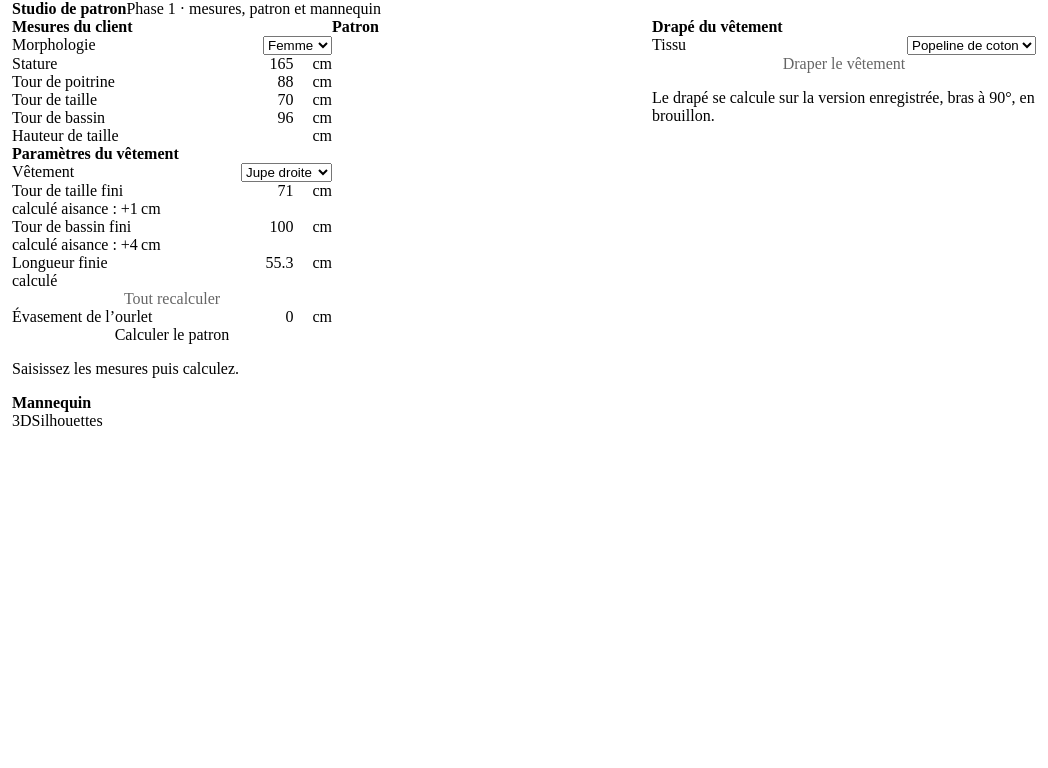
it: reprise d’une version dans le studio › sans modification : pas de question, formulaire rechargé, patron effacé
What coordinates should you click on to do the following:
click the button "Calculer le patron"
I would click on:
 (172, 335)
Its box is [12,326,332,344].
(page scrolled)
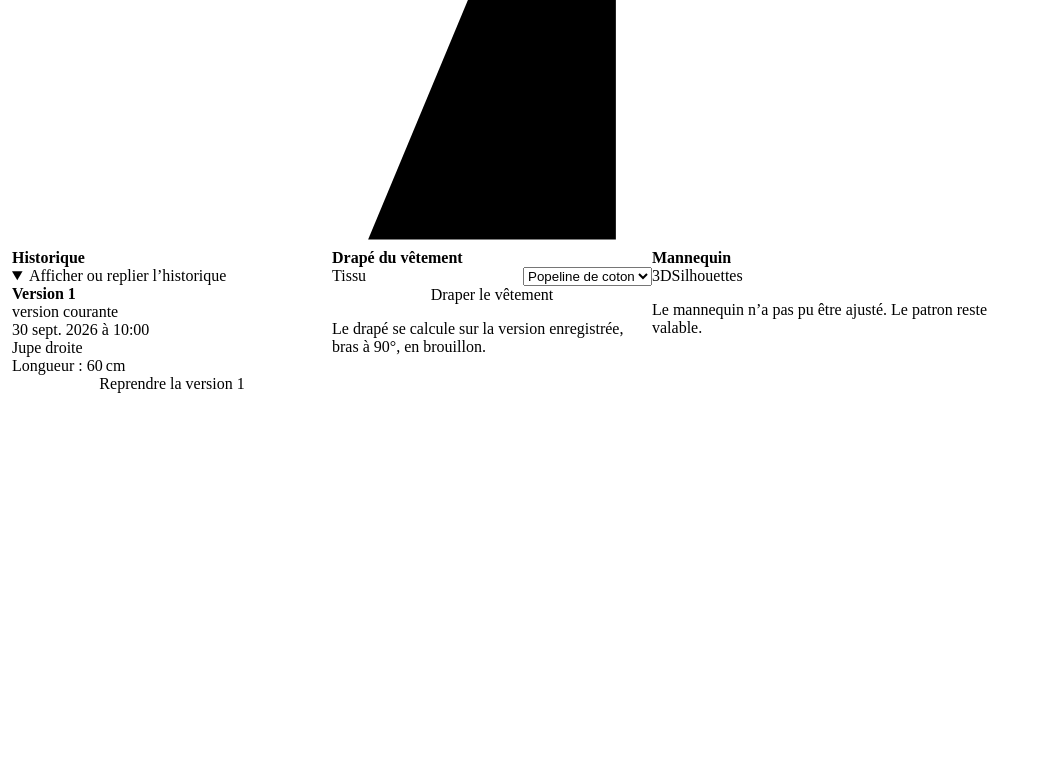
Expected: the button "Reprendre la version 1" is shown
What coordinates should you click on to do the following:
click the button "Reprendre la version 1"
I would click on:
 (172, 384)
Its box is [12,375,332,393].
(page scrolled)
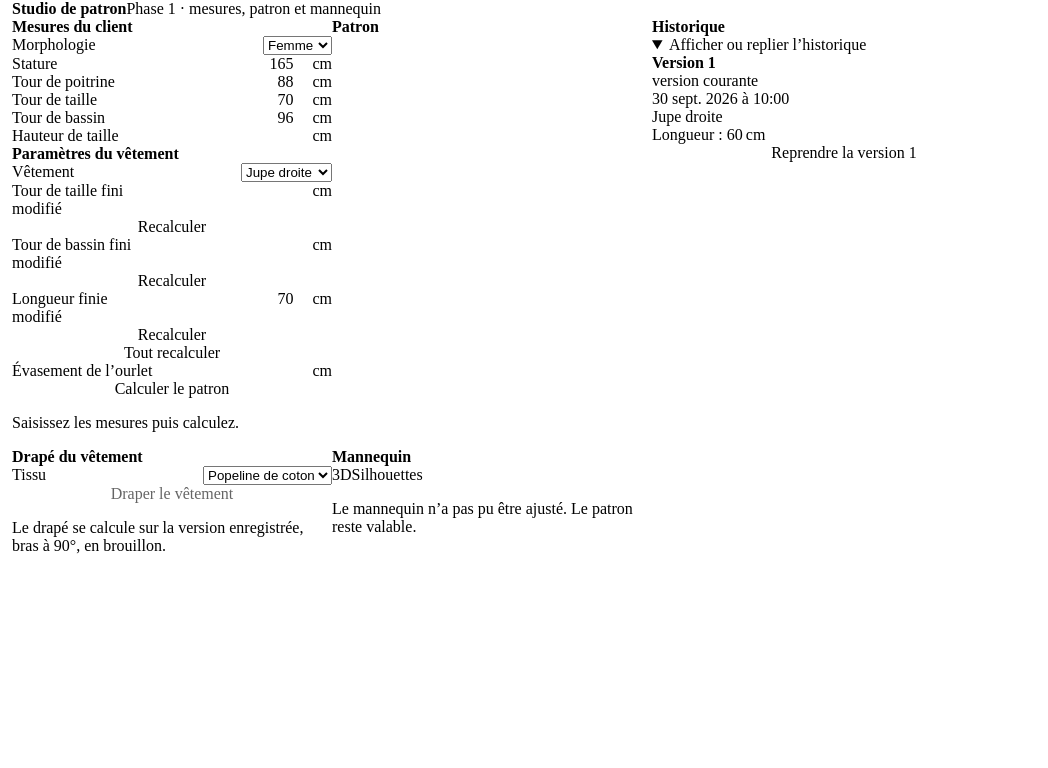
Expected: the element "Historique" is shown, [652,18,1036,162]
Expected: the number field labelled "Longueur finie" holds "70", [212,290,308,308]
Expected: the text "Saisissez les mesures puis calculez." is shown, [12,414,239,431]
